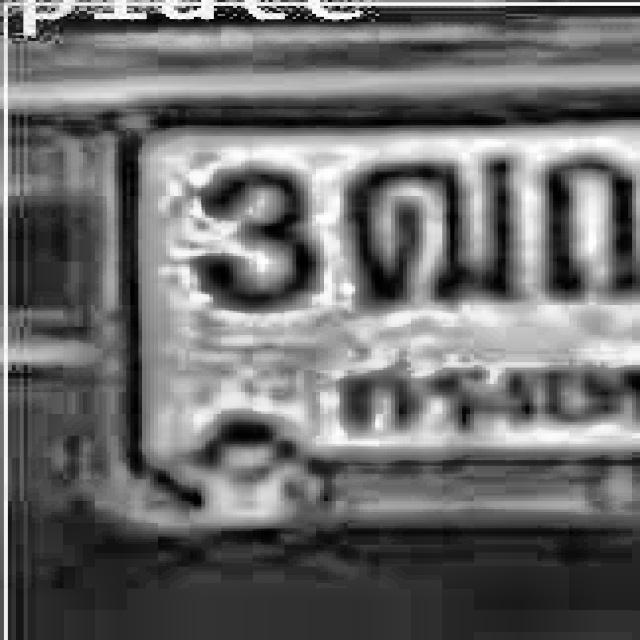license-plate: (82, 86, 640, 528)
